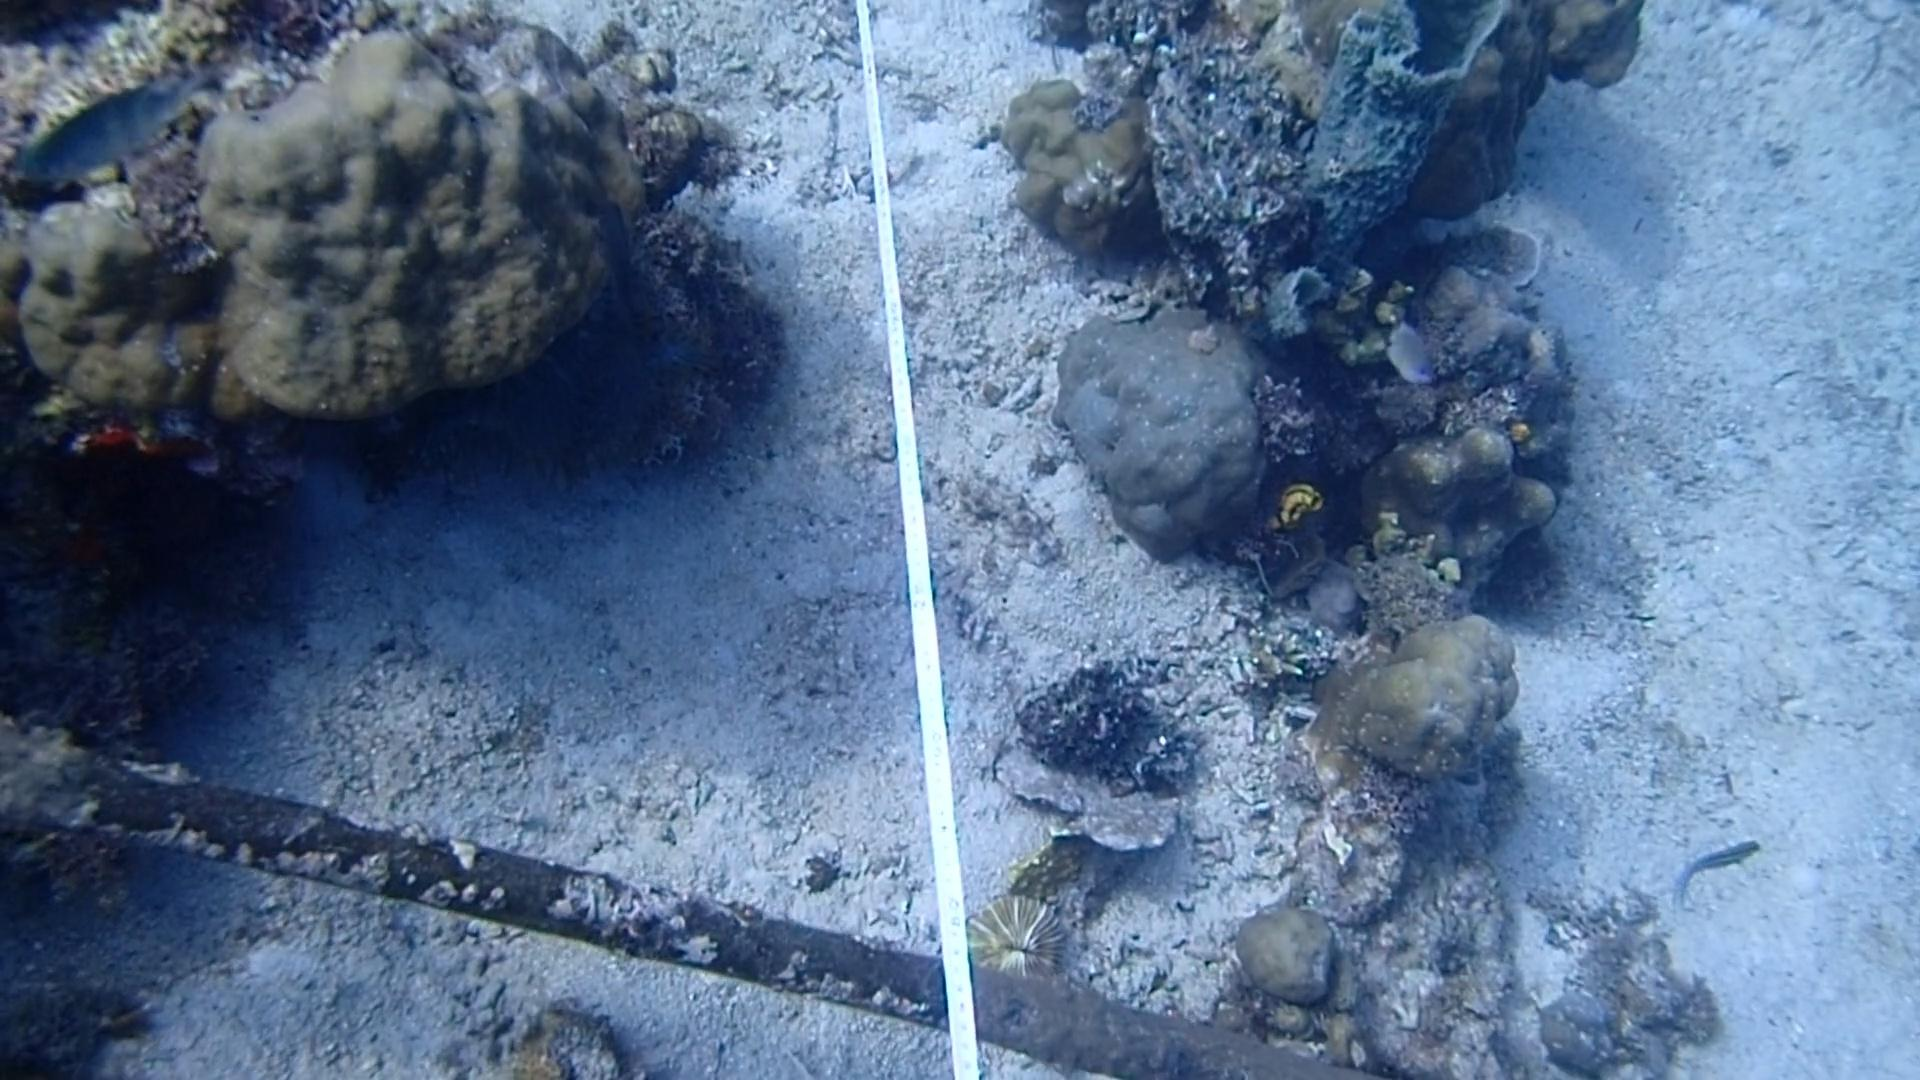Blue Fish: (8, 63, 224, 200)
Blue Nose Fish: (1370, 311, 1440, 385)
Dark Fish: (580, 194, 654, 310)
Striped Fish: (1660, 828, 1770, 913)
